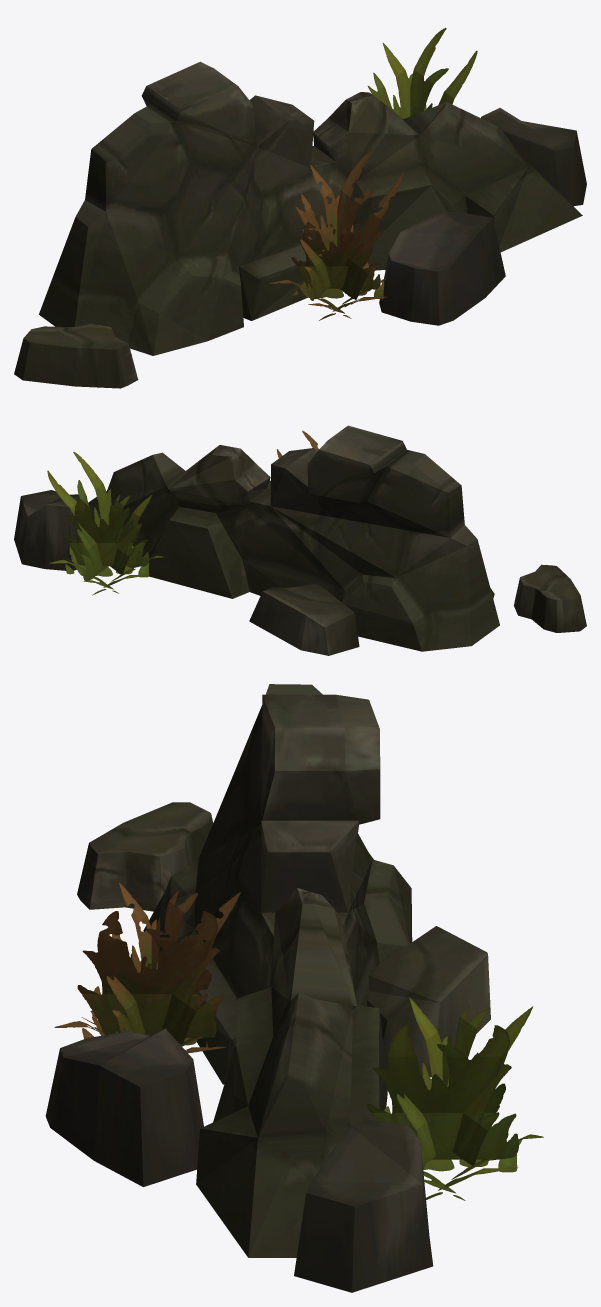
Rendered from humgraveyard_rubble_01.fbx.
3 renders of one model, top to bottom at view 1: azimuth 30°, elevation 25°; view 2: azimuth 150°, elevation 25°; view 3: azimuth 270°, elevation 25°, orthographic. The views are drawn at different scales.
Parts seen in each view (by area): view 1: obj3.012; view 2: obj3.012; view 3: obj3.012.
Boxes of the visible parts, left/top/right/bottom form: obj3.012: left=14, top=27, right=586, bottom=388; obj3.012: left=14, top=425, right=586, bottom=655; obj3.012: left=45, top=684, right=543, bottom=1292.
Bounding box in the file's own units: 4.92 × 1.58 × 2.7.
